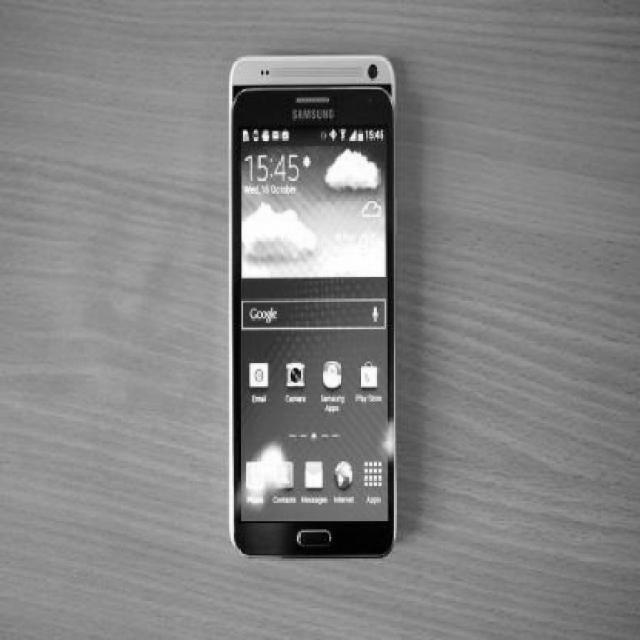fake: (224, 52, 390, 558)
